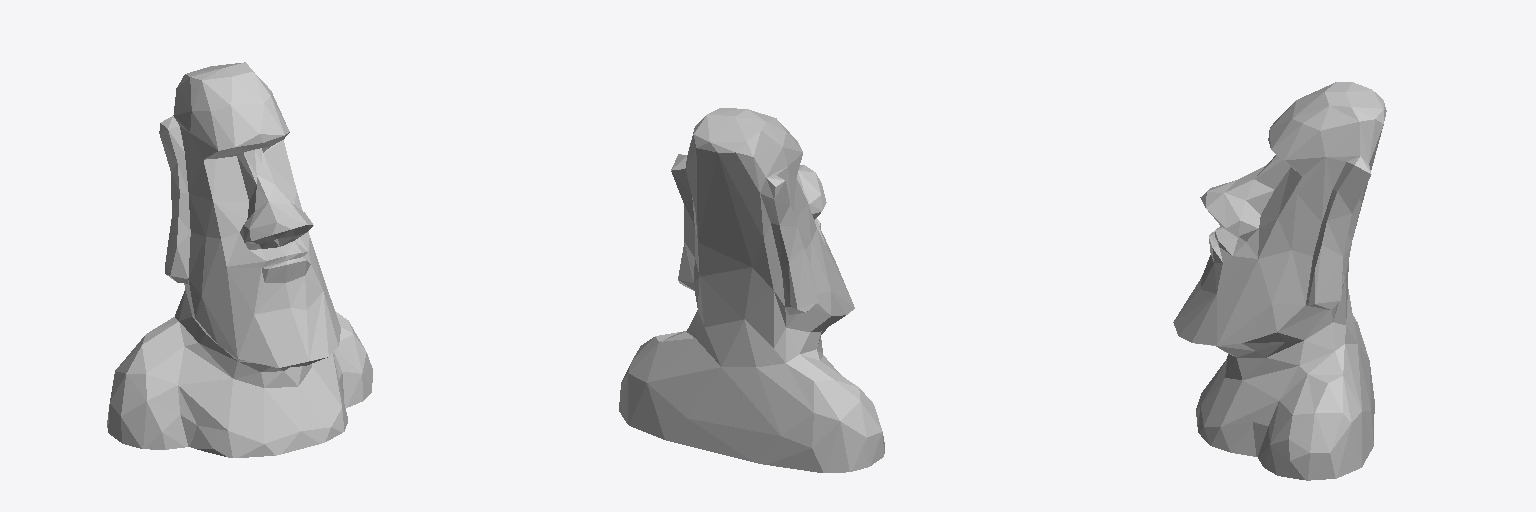
File: moai_low_poly.obj
The picture shows the model from 3 angles: view 1: azimuth 30°, elevation 25°; view 2: azimuth 150°, elevation 25°; view 3: azimuth 270°, elevation 25°; orthographic projection.
Visible parts, largest first — view 1: moai_Material #35_0; view 2: moai_Material #35_0; view 3: moai_Material #35_0.
Boxes of the visible parts, x1=… form: moai_Material #35_0: x1=107, y1=62, x2=372, y2=457; moai_Material #35_0: x1=619, y1=108, x2=884, y2=472; moai_Material #35_0: x1=1173, y1=82, x2=1386, y2=480.
Bounding box in the file's own units: 59.12 × 73.91 × 43.7.